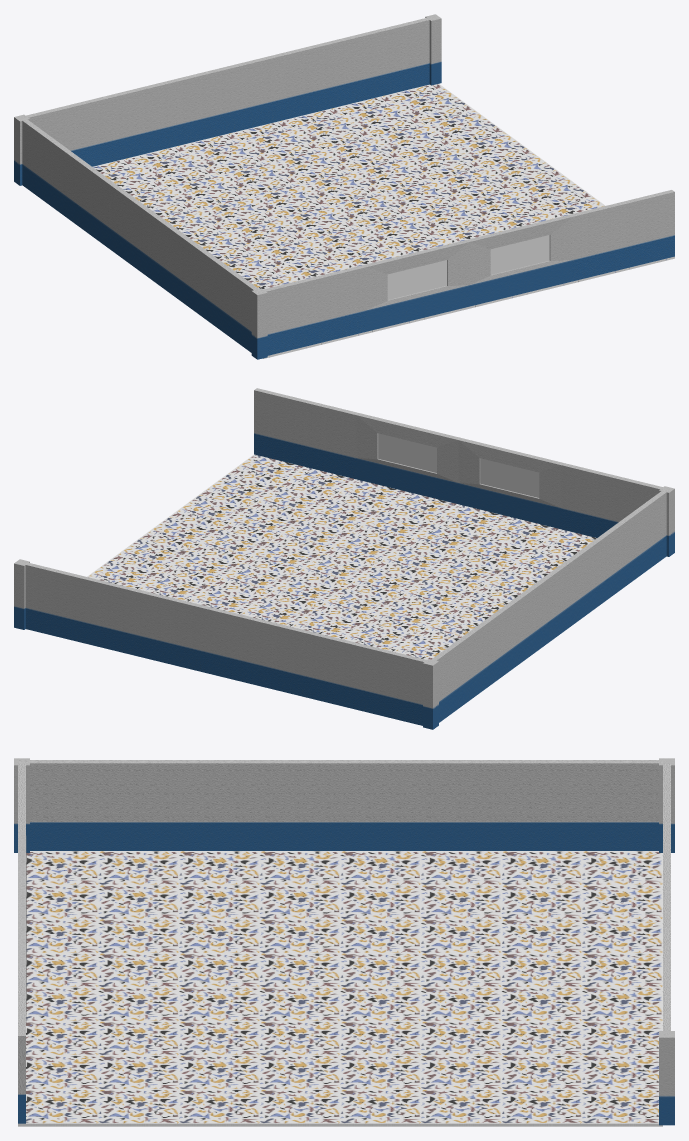
3 views of the same model, one above another, from view 1: azimuth 30°, elevation 25°; view 2: azimuth 150°, elevation 25°; view 3: azimuth 270°, elevation 25° (orthographic). The views are drawn at different scales.
Parts seen in each view (by area): view 1: 105; view 2: 105; view 3: 105.
Boxes of the visible parts, bbox=[...] form: 105: bbox=[14, 14, 674, 359]; 105: bbox=[14, 388, 674, 729]; 105: bbox=[14, 758, 674, 1126].
Size of the model in its own units: 4100 by 620 by 4100.
Materials: 3 (2 with a texture image).
